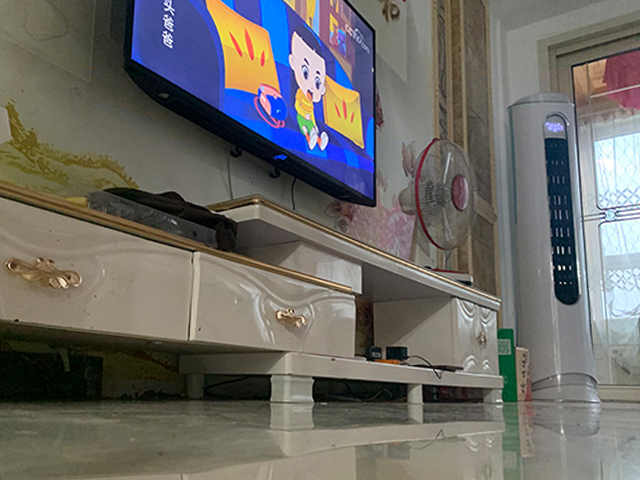cabinet: (1, 181, 505, 403)
